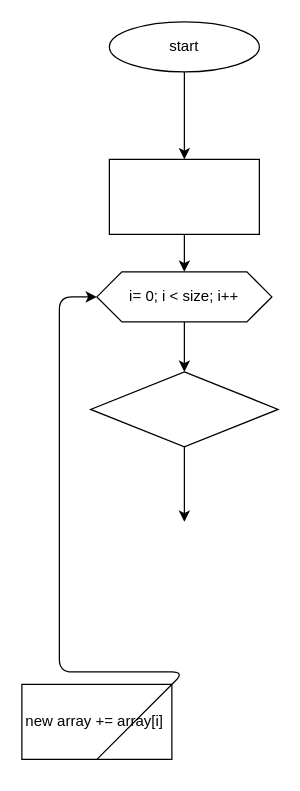
Some shapes in this 300 by 791 pixel diagram are drawn without their labels. The shapes that lost their labels are listed below. From the top down, each one's centre as x and y in pixels, then its label:
the point at 183,196: array = [size] new array = string.Empty
the point at 183,409: array[i].Length<3
